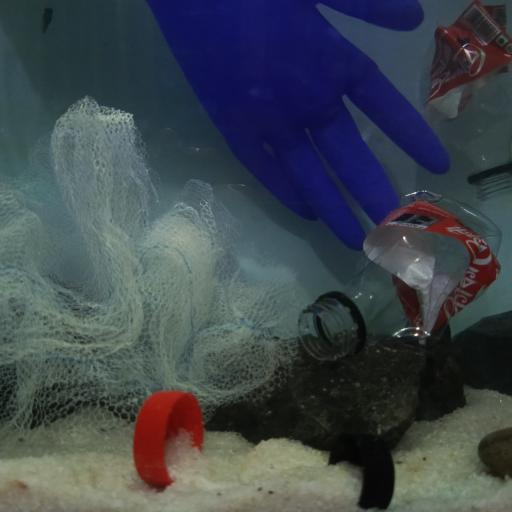bottle_cap: (134, 390, 205, 490), (328, 432, 396, 510)
glove: (148, 0, 451, 254)
net: (2, 97, 316, 441)
plastic_bottle: (297, 190, 503, 362), (425, 2, 512, 203)
